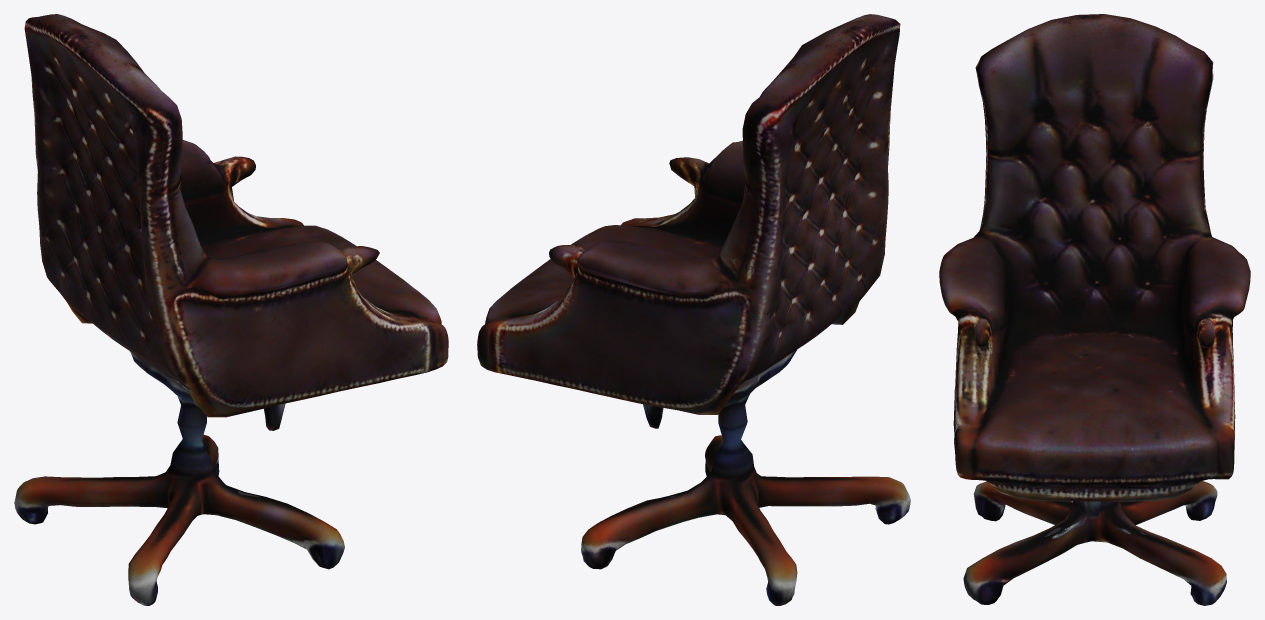
Rendered from a3702aa11b12_Canadian_Brown_Leat.fbx.
3 views of the same model, side by side, from view 1: azimuth 30°, elevation 25°; view 2: azimuth 150°, elevation 25°; view 3: azimuth 270°, elevation 25° (orthographic). The views are drawn at different scales.
Parts seen in each view (by area): view 1: mesh; view 2: mesh; view 3: mesh.
Part boxes in pixels (box(x1,y1,x2,y2)): mesh: box(14, 14, 448, 605); mesh: box(477, 14, 910, 605); mesh: box(939, 14, 1250, 605).
Size of the model in its own units: 62.95 by 99.94 by 56.16.
